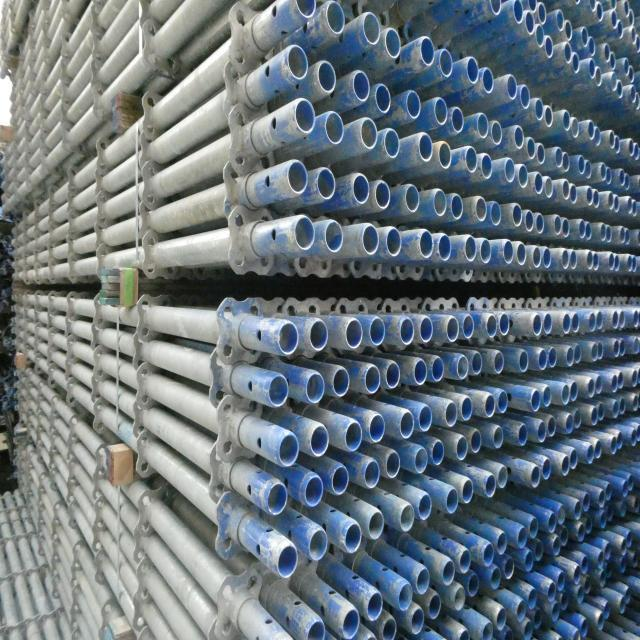pipe: (288, 212, 316, 256), (259, 478, 288, 516), (274, 428, 300, 470), (284, 42, 308, 84), (295, 94, 317, 138), (356, 12, 382, 48), (306, 526, 330, 565), (266, 370, 288, 412), (341, 518, 364, 558), (321, 1, 347, 36), (410, 35, 438, 67), (274, 543, 298, 580), (276, 322, 298, 362), (321, 218, 344, 255), (302, 472, 325, 509), (286, 158, 308, 196), (340, 416, 362, 454), (316, 164, 337, 203), (323, 112, 345, 148), (329, 465, 352, 499), (304, 371, 326, 406), (360, 222, 380, 260), (349, 171, 370, 207), (308, 318, 329, 354), (480, 147, 497, 190), (316, 59, 336, 95), (404, 89, 424, 125), (308, 422, 328, 458), (368, 412, 388, 448), (351, 70, 372, 104), (289, 0, 321, 22), (330, 367, 352, 399), (344, 316, 364, 351), (380, 30, 403, 60), (339, 610, 362, 640), (384, 128, 402, 164), (374, 84, 393, 118), (373, 178, 392, 212), (369, 314, 388, 348), (367, 507, 385, 542), (361, 115, 378, 152), (363, 363, 382, 396), (362, 459, 381, 490), (464, 54, 481, 88), (386, 226, 403, 260), (472, 110, 489, 144), (385, 359, 402, 393), (439, 554, 456, 588), (416, 228, 434, 260), (402, 182, 420, 214), (396, 315, 414, 347), (430, 95, 448, 126), (396, 582, 414, 613), (417, 132, 434, 164), (366, 590, 382, 624), (414, 566, 430, 600), (384, 450, 402, 480), (440, 487, 458, 517), (437, 48, 456, 76), (302, 617, 325, 640), (456, 545, 472, 578), (431, 187, 447, 219), (437, 137, 452, 171), (449, 190, 464, 224), (411, 446, 428, 476), (398, 504, 415, 534), (428, 355, 446, 383), (414, 495, 432, 523), (489, 423, 506, 452), (502, 70, 518, 100), (463, 144, 478, 176), (398, 411, 414, 441), (416, 404, 432, 434), (410, 607, 426, 637), (418, 316, 434, 345), (481, 66, 496, 96), (438, 230, 452, 262), (442, 401, 458, 429), (464, 233, 478, 264), (455, 352, 469, 383), (430, 439, 446, 466), (428, 594, 442, 624), (452, 584, 467, 612), (380, 616, 397, 640), (478, 237, 492, 266), (534, 20, 546, 53), (516, 240, 530, 268), (444, 316, 458, 344), (462, 312, 476, 340), (454, 434, 468, 462), (460, 476, 474, 504), (494, 606, 508, 634), (414, 358, 427, 388), (483, 392, 496, 422), (460, 396, 474, 423), (483, 473, 496, 502), (532, 94, 544, 125), (452, 105, 464, 136), (475, 193, 487, 224), (481, 542, 494, 570), (494, 530, 508, 556), (490, 200, 502, 230), (502, 238, 514, 268), (504, 156, 516, 186), (519, 80, 530, 112), (484, 315, 498, 340), (526, 388, 540, 413), (490, 120, 503, 146), (496, 466, 509, 492), (467, 572, 480, 598), (517, 163, 529, 191), (518, 348, 530, 376), (536, 418, 548, 446), (502, 556, 514, 584), (520, 616, 534, 640), (513, 0, 524, 30), (544, 104, 556, 131), (568, 114, 580, 141), (510, 202, 522, 229), (530, 462, 542, 489), (536, 1, 548, 27), (470, 430, 482, 456), (515, 423, 528, 447), (490, 566, 502, 592), (523, 550, 536, 574), (558, 586, 570, 612), (523, 10, 534, 38), (515, 596, 526, 624), (532, 171, 544, 196), (492, 349, 504, 374), (570, 314, 582, 339), (586, 341, 598, 366), (480, 620, 495, 640), (542, 311, 552, 340), (534, 212, 546, 236), (573, 584, 585, 608), (514, 124, 525, 150), (517, 526, 528, 552), (472, 348, 482, 376), (498, 390, 508, 418), (560, 452, 570, 480), (546, 508, 556, 536), (568, 449, 580, 472), (550, 534, 562, 557), (536, 348, 547, 372), (528, 516, 539, 540), (533, 538, 544, 562), (526, 588, 538, 610), (562, 108, 572, 134), (554, 146, 564, 172), (524, 208, 534, 234), (532, 244, 542, 270), (500, 312, 510, 338), (548, 344, 558, 370), (532, 314, 542, 340), (542, 456, 552, 482), (555, 8, 564, 36), (580, 617, 592, 638), (564, 345, 574, 370), (589, 404, 599, 429), (572, 563, 582, 588), (584, 118, 594, 142), (544, 36, 554, 60), (564, 18, 574, 42), (572, 51, 582, 75), (536, 142, 546, 166), (544, 175, 554, 199), (542, 387, 552, 411), (560, 314, 570, 338), (564, 412, 574, 436), (546, 580, 556, 604), (596, 570, 608, 590), (489, 0, 502, 18), (563, 40, 572, 66), (553, 212, 562, 238), (583, 490, 592, 516), (550, 601, 561, 622), (582, 575, 593, 596), (526, 137, 536, 160), (560, 177, 570, 200), (542, 246, 552, 269), (547, 414, 556, 439), (570, 379, 579, 404), (588, 36, 598, 58), (586, 58, 596, 80), (560, 248, 570, 270), (584, 250, 595, 270), (586, 377, 596, 399), (560, 527, 570, 549), (617, 500, 628, 520), (598, 510, 609, 530), (579, 554, 589, 576), (602, 601, 612, 623), (573, 408, 582, 432), (573, 496, 582, 520), (598, 222, 608, 243), (572, 344, 582, 365), (609, 399, 619, 420), (618, 396, 628, 417), (556, 570, 566, 591), (578, 218, 586, 244), (586, 442, 594, 468), (595, 374, 604, 397), (613, 253, 623, 273), (616, 370, 626, 390), (596, 402, 606, 422), (558, 506, 568, 526), (596, 550, 606, 570), (534, 610, 544, 630), (596, 612, 606, 632), (580, 27, 589, 49), (595, 65, 604, 87), (576, 154, 585, 176), (584, 158, 593, 180), (593, 251, 602, 273), (576, 522, 585, 544), (620, 594, 629, 616), (594, 124, 602, 148), (614, 132, 622, 156), (588, 312, 596, 336), (632, 309, 640, 333), (562, 383, 570, 407), (594, 438, 602, 462), (501, 629, 518, 640), (562, 151, 570, 174), (586, 185, 594, 208), (606, 190, 614, 213), (602, 43, 611, 63), (605, 224, 614, 244), (618, 538, 628, 556), (570, 184, 578, 206), (570, 248, 578, 270), (610, 374, 618, 396), (610, 436, 618, 458), (606, 481, 614, 503), (632, 494, 640, 516), (630, 548, 638, 570), (561, 219, 570, 238), (604, 561, 614, 578), (596, 1, 604, 22), (605, 166, 613, 187), (596, 311, 604, 332), (612, 309, 620, 330), (629, 428, 637, 449), (617, 227, 626, 245), (604, 541, 613, 559), (630, 84, 637, 107), (593, 188, 600, 211), (626, 138, 634, 158), (610, 10, 618, 30), (624, 172, 632, 192), (585, 220, 593, 240), (598, 342, 606, 362), (611, 340, 619, 360), (630, 370, 638, 390), (616, 431, 624, 451), (598, 488, 606, 508), (626, 586, 634, 606), (617, 78, 624, 100), (631, 252, 638, 274), (618, 556, 627, 573), (632, 142, 640, 161), (626, 65, 634, 84), (622, 0, 630, 19), (620, 340, 628, 359), (527, 0, 537, 15), (604, 507, 614, 522), (618, 167, 625, 188), (622, 478, 629, 499), (626, 473, 634, 491), (626, 530, 634, 548), (569, 629, 582, 640), (607, 252, 614, 272), (633, 335, 640, 355), (609, 128, 615, 151), (600, 160, 606, 183), (624, 228, 632, 245), (631, 200, 638, 219), (611, 72, 617, 94), (610, 50, 616, 72), (630, 24, 636, 46), (626, 252, 632, 274), (616, 20, 623, 38), (634, 33, 640, 54), (613, 195, 620, 213), (632, 393, 638, 414), (624, 58, 630, 78), (586, 516, 592, 536), (626, 196, 632, 214), (620, 310, 626, 328), (590, 0, 596, 18), (636, 423, 640, 448), (610, 0, 618, 12), (630, 6, 634, 26)
